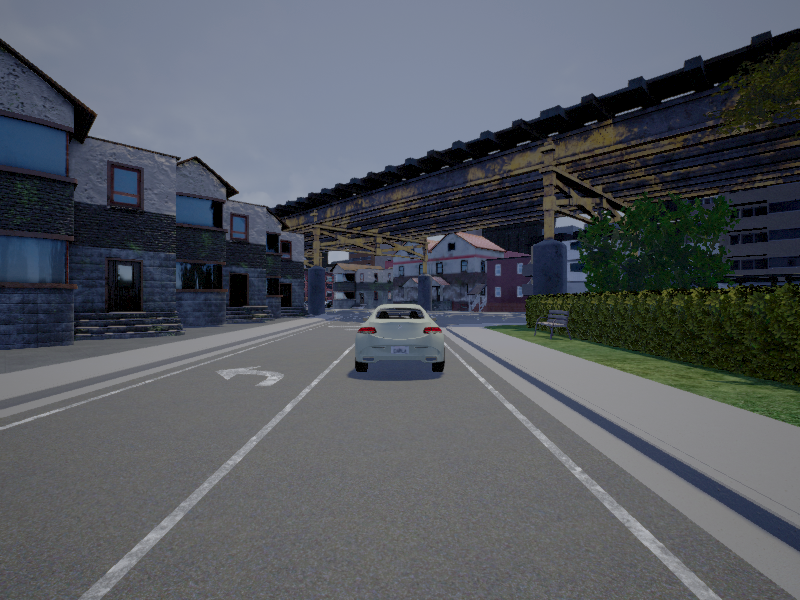Benign: (355, 301, 445, 373)
